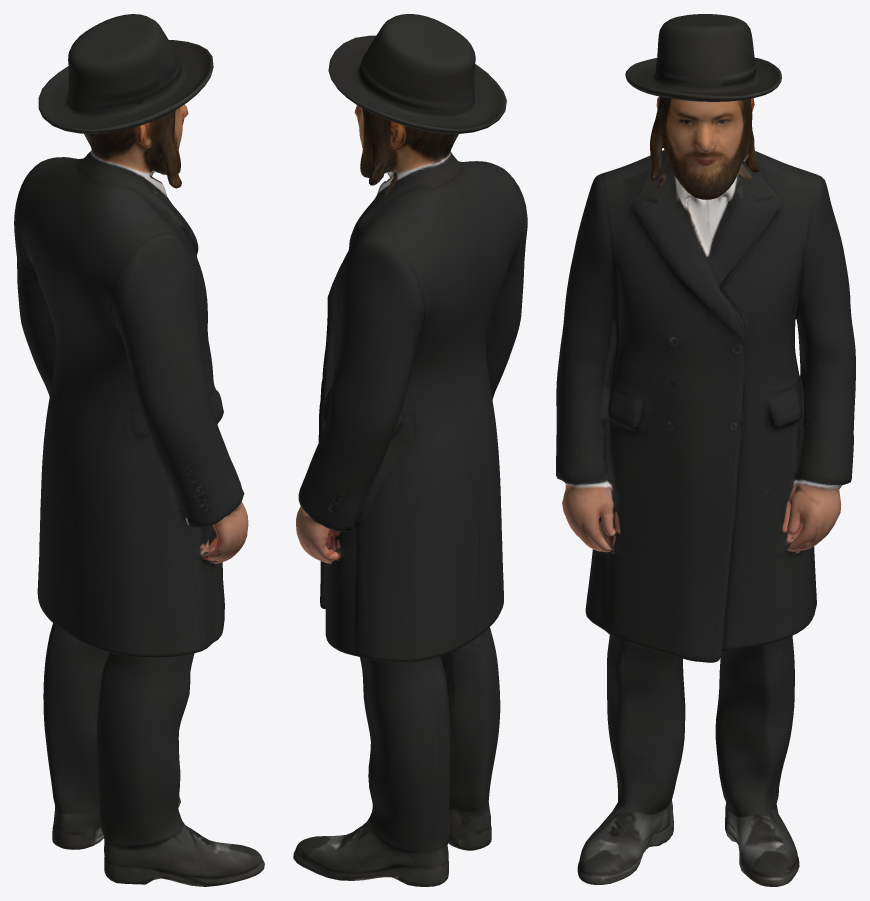
File: Rzyt Mygal.fbx
The picture shows the model from 3 angles, left to right: view 1: azimuth 30°, elevation 25°; view 2: azimuth 150°, elevation 25°; view 3: azimuth 270°, elevation 25°; orthographic projection.
Visible parts, largest first — view 1: tripo_node_1ae6f9a1; view 2: tripo_node_1ae6f9a1; view 3: tripo_node_1ae6f9a1.
Part boxes in pixels (left/top/right/bottom): tripo_node_1ae6f9a1: left=14, top=14, right=264, bottom=886; tripo_node_1ae6f9a1: left=293, top=14, right=527, bottom=886; tripo_node_1ae6f9a1: left=556, top=14, right=855, bottom=886.
Size of the model in its own units: 21.4 by 99.96 by 32.62.
1 material, 1 textured.
